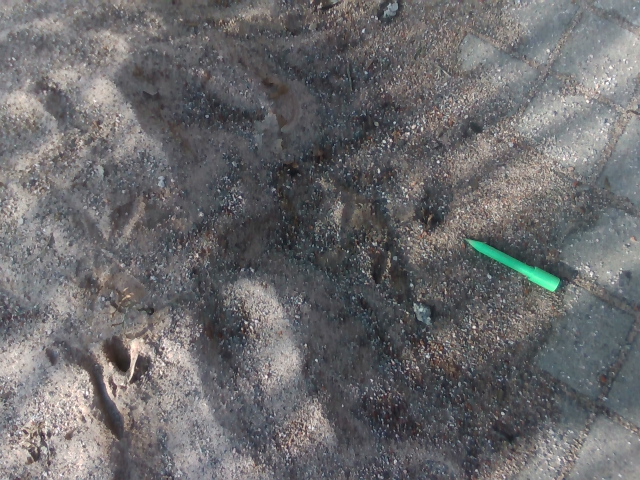Probe: (459, 233, 563, 294)
